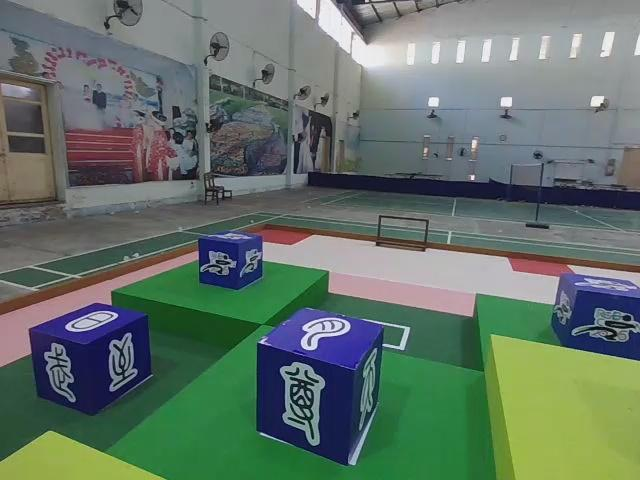R1 Blue: (548, 275, 638, 365), (196, 231, 263, 292)
R2 Fake Blue: (259, 303, 388, 467), (28, 306, 151, 419)
